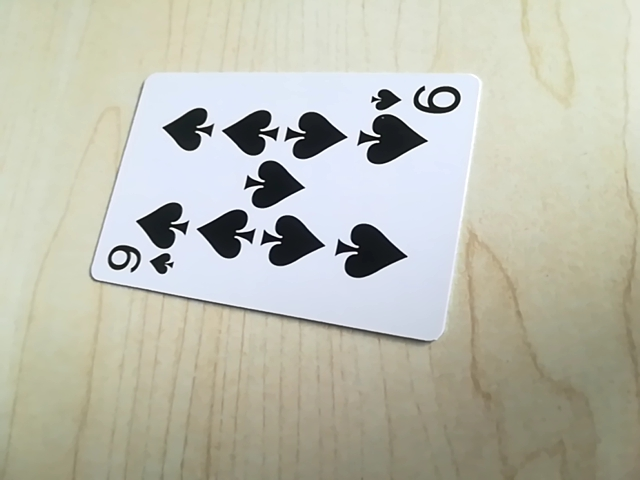ht 9: (367, 82, 465, 117), (101, 245, 177, 282)
